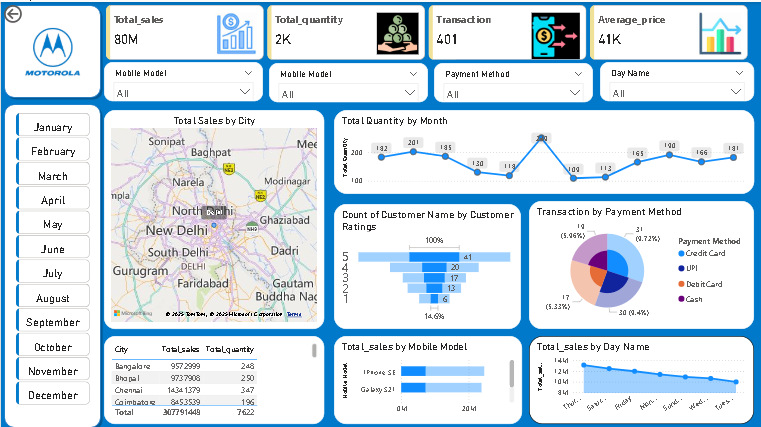

The page's visual inventory and layout, read from the dashboard file:
{"tool":"powerbi","page":{"name":"Page 1","canvas":[1280,720],"ordinal":0},"visuals":[{"type":"shape","box":[0,0,173,166.3],"z":0},{"type":"image","box":[20.2,15.1,134.4,137.7],"z":1000},{"type":"shape","box":[0,166.3,173,554.3],"z":2000},{"type":"advancedSlicerVisual","fields":{"Values":["Sheet1.Date.Variation.Date Hierarchy.Month"]},"box":[20.2,181.4,134.4,500.6],"z":3000},{"type":"cardVisual","fields":{"Data":["Sheet1.Total_sales","Sheet1.Total_quantity","Sheet1.Transaction","Sheet1.Average_price"]},"box":[171.3,0,1091.9,102.5],"z":4000},{"type":"map","fields":{"Category":["Sheet1.City"]},"box":[173,181.4,369.6,367.9],"z":5000},{"type":"lineChart","fields":{"Category":["Sheet1.Date.Variation.Date Hierarchy.Month","Sheet1.Date.Variation.Date Hierarchy.Day"],"Y":["Sheet1.Total_quantity"]},"box":[559.4,181.4,705.5,141.1],"z":6000},{"type":"barChart","fields":{"Category":["Sheet1.Mobile Model"],"Y":["Sheet1.Total_sales"]},"box":[559.4,561,315.8,147.8],"z":7000},{"type":"pieChart","fields":{"Y":["Sheet1.Transaction"],"Category":["Sheet1.Payment Method"]},"box":[886.9,334.3,378,215],"z":8000},{"type":"funnel","fields":{"Category":["Sheet1.Customer Ratings"],"Y":["CountNonNull(Sheet1.Customer Name)"]},"box":[559.4,339.3,314.1,210],"z":9000},{"type":"areaChart","fields":{"Category":["Sheet1.Day Name"],"Y":["Sheet1.Total_sales"]},"box":[886.9,561,378,147.8],"z":10000},{"type":"tableEx","fields":{"Values":["Sheet1.City","Sheet1.Total_sales","Sheet1.Total_quantity"]},"box":[173,561,369.6,147.8],"z":11000},{"type":"actionButton","box":[0,0,100,40],"z":12000},{"type":"slicer","fields":{"Values":["Sheet1.Mobile Model"]},"box":[173,100.8,267.1,65.5],"z":13000},{"type":"slicer","fields":{"Values":["Sheet1.Day Name"]},"box":[1006.2,100.8,258.7,65.5],"z":14000},{"type":"slicer","fields":{"Values":["Sheet1.Mobile Model"]},"box":[450.2,102.5,267.1,65.5],"z":15000},{"type":"slicer","fields":{"Values":["Sheet1.Payment Method"]},"box":[727.3,102.5,267.1,65.5],"z":16000}]}

Visuals, with their boxes in screenshot pixels (x1, y1, x2, y2), scaled from the page's 1280x720 canvas onto the 761x427 screenshot:
shape: crop(0, 0, 103, 99)
image: crop(12, 9, 92, 91)
shape: crop(0, 99, 103, 426)
advancedSlicerVisual - Sheet1.Date.Variation.Date Hierarchy.Month: crop(12, 108, 92, 404)
cardVisual - Sheet1.Total_sales x Sheet1.Total_quantity: crop(102, 0, 751, 61)
map - Sheet1.City: crop(103, 108, 323, 326)
lineChart - Sheet1.Date.Variation.Date Hierarchy.Month x Sheet1.Date.Variation.Date Hierarchy.Day: crop(333, 108, 752, 191)
barChart - Sheet1.Mobile Model x Sheet1.Total_sales: crop(333, 333, 520, 420)
pieChart - Sheet1.Transaction x Sheet1.Payment Method: crop(527, 198, 752, 326)
funnel - Sheet1.Customer Ratings x CountNonNull(Sheet1.Customer Name): crop(333, 201, 519, 326)
areaChart - Sheet1.Day Name x Sheet1.Total_sales: crop(527, 333, 752, 420)
tableEx - Sheet1.City x Sheet1.Total_sales: crop(103, 333, 323, 420)
actionButton: crop(0, 0, 59, 24)
slicer - Sheet1.Mobile Model: crop(103, 60, 262, 99)
slicer - Sheet1.Day Name: crop(598, 60, 752, 99)
slicer - Sheet1.Mobile Model: crop(268, 61, 426, 100)
slicer - Sheet1.Payment Method: crop(432, 61, 591, 100)
